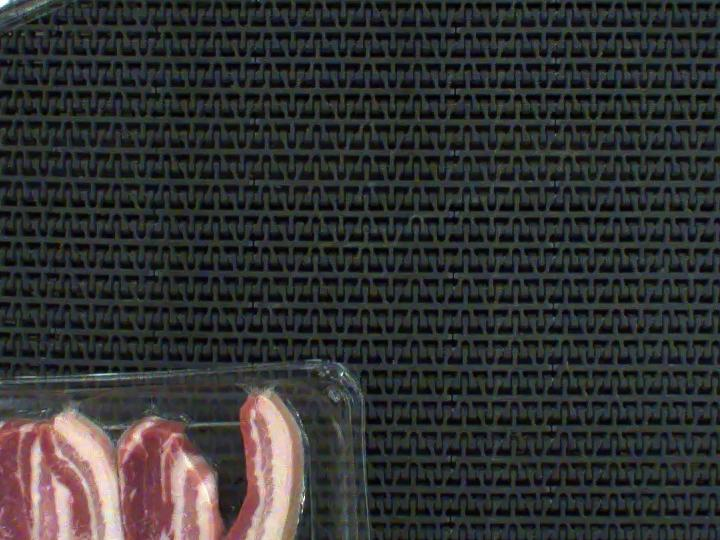loose-meat: (243, 386, 311, 540)
unsealed: (19, 386, 210, 526)
